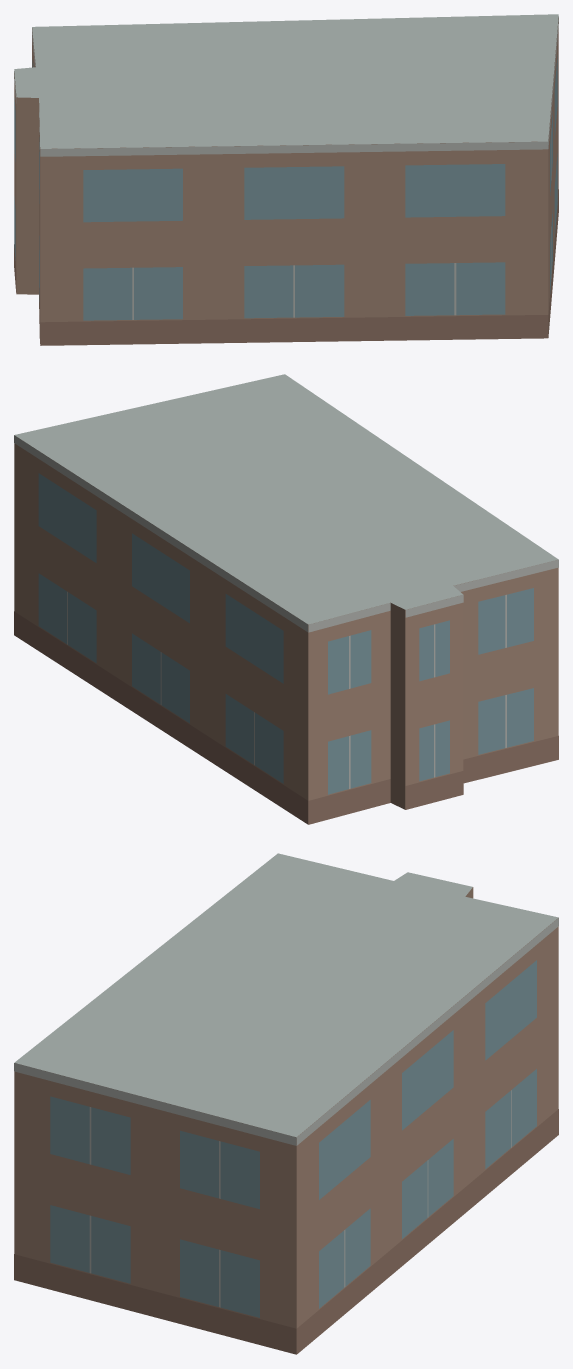
File: survey-upis-32819450.glb
3 views of the same model, one above another, from view 1: azimuth 30°, elevation 25°; view 2: azimuth 150°, elevation 25°; view 3: azimuth 270°, elevation 25° (orthographic). The views are drawn at different scales.
Parts seen in each view (by area): view 1: survey-upis-32819450.tmp; view 2: survey-upis-32819450.tmp; view 3: survey-upis-32819450.tmp.
Part boxes in pixels (box(x1,y1,x2,y2)): survey-upis-32819450.tmp: box(14, 14, 558, 345); survey-upis-32819450.tmp: box(14, 374, 558, 824); survey-upis-32819450.tmp: box(14, 853, 558, 1354).
Bounding box in the file's own units: 17.11 × 6.1 × 13.87.
